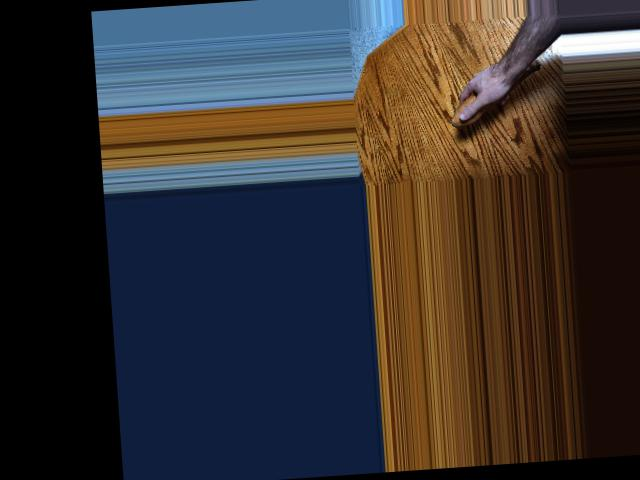sweet_potato: (446, 57, 547, 127)
